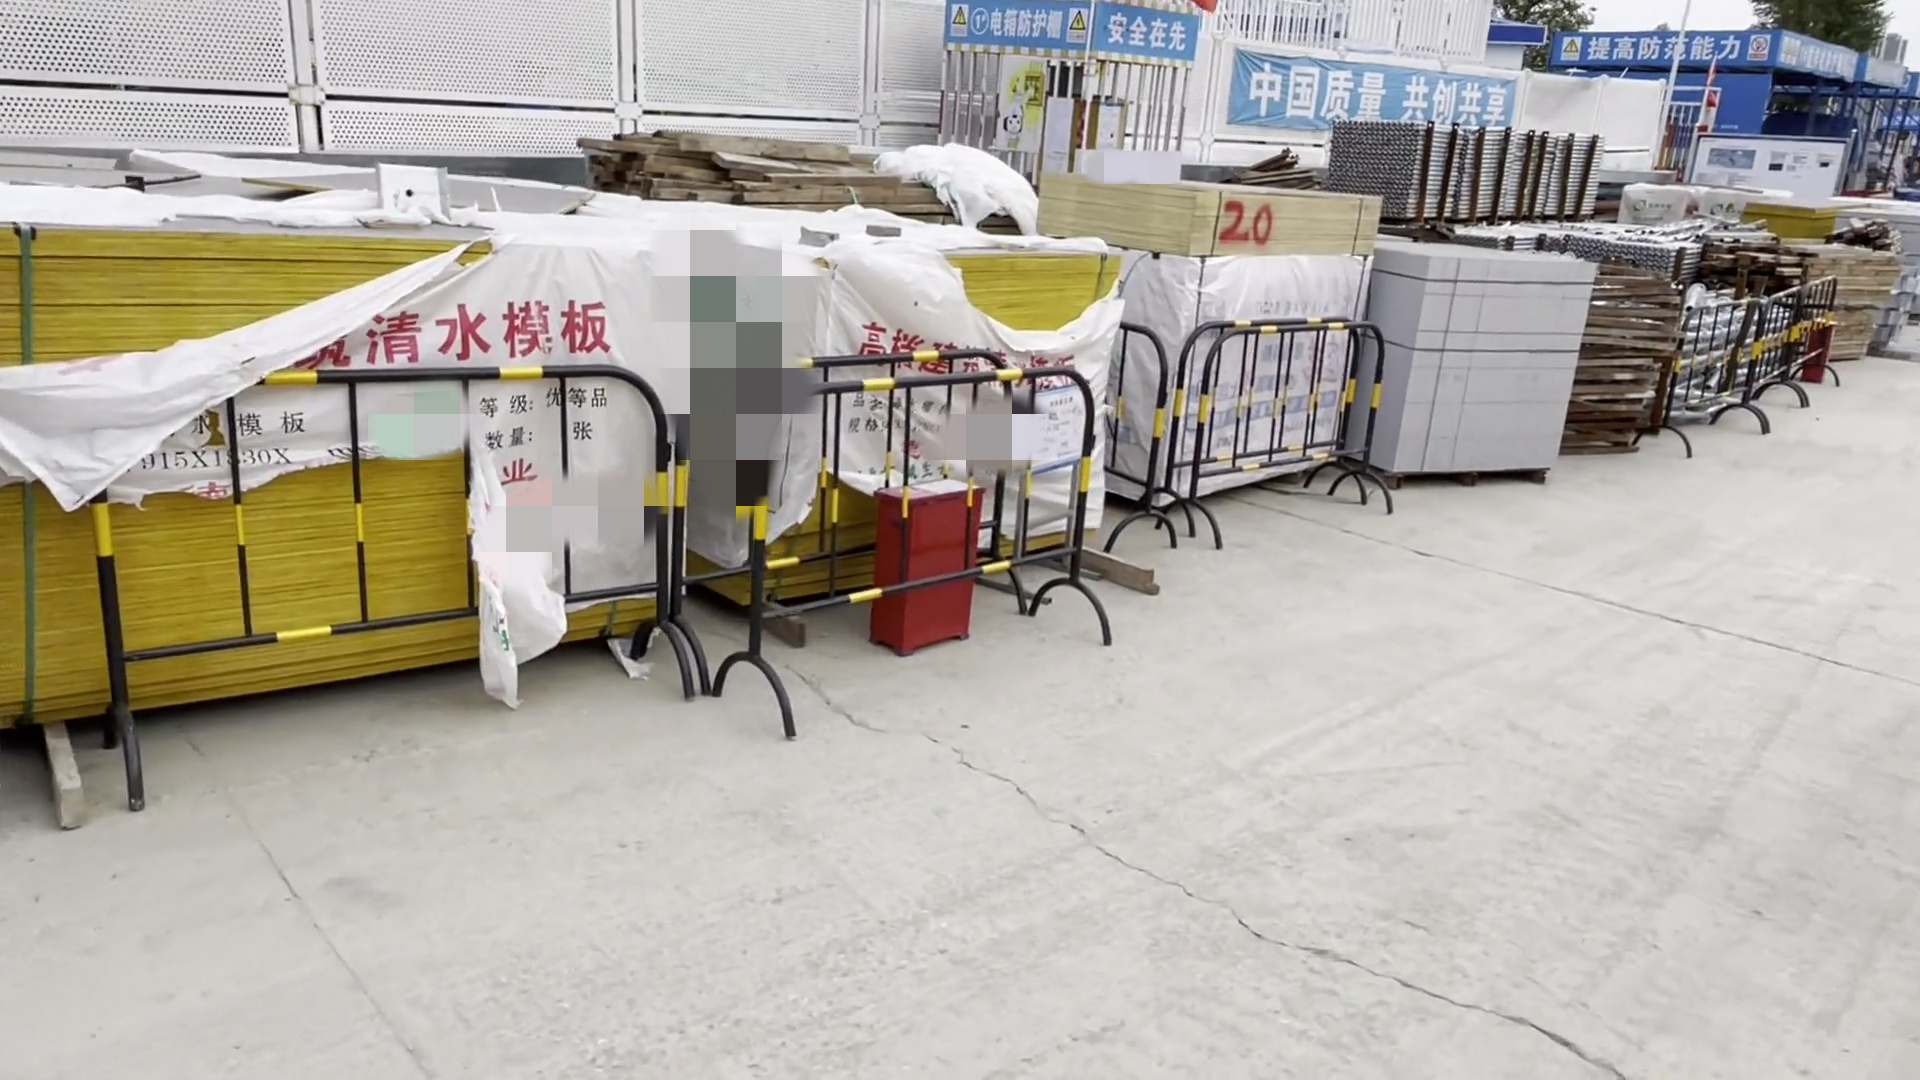brick: (1356, 227, 1568, 492)
fence: (119, 334, 686, 808), (729, 359, 1101, 731), (1179, 313, 1390, 549), (1112, 291, 1185, 556), (1660, 295, 1763, 465), (1760, 280, 1842, 407)
